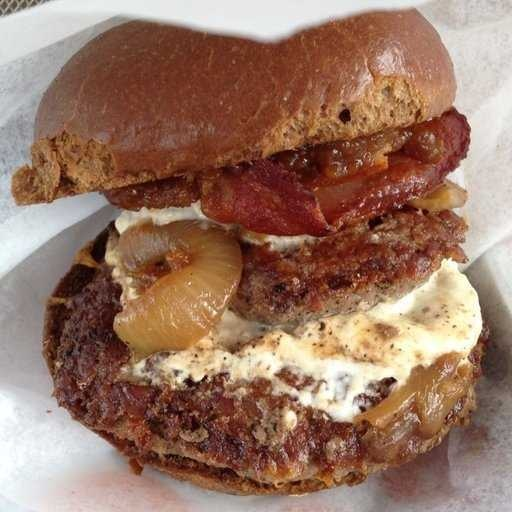hamburger: (50, 7, 457, 470)
